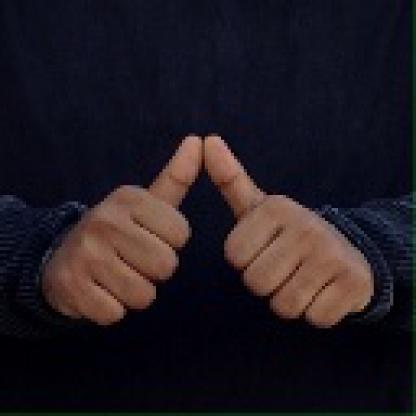A: (46, 126, 388, 334)
